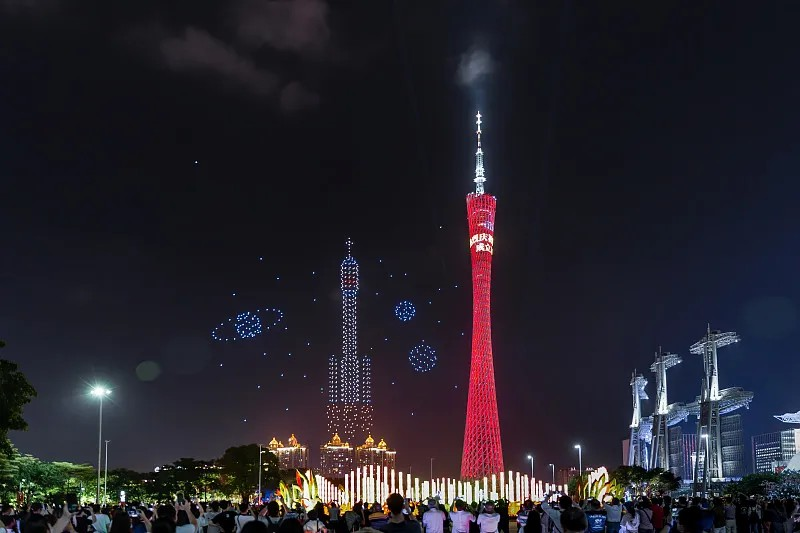Canton: (460, 109, 506, 481)
